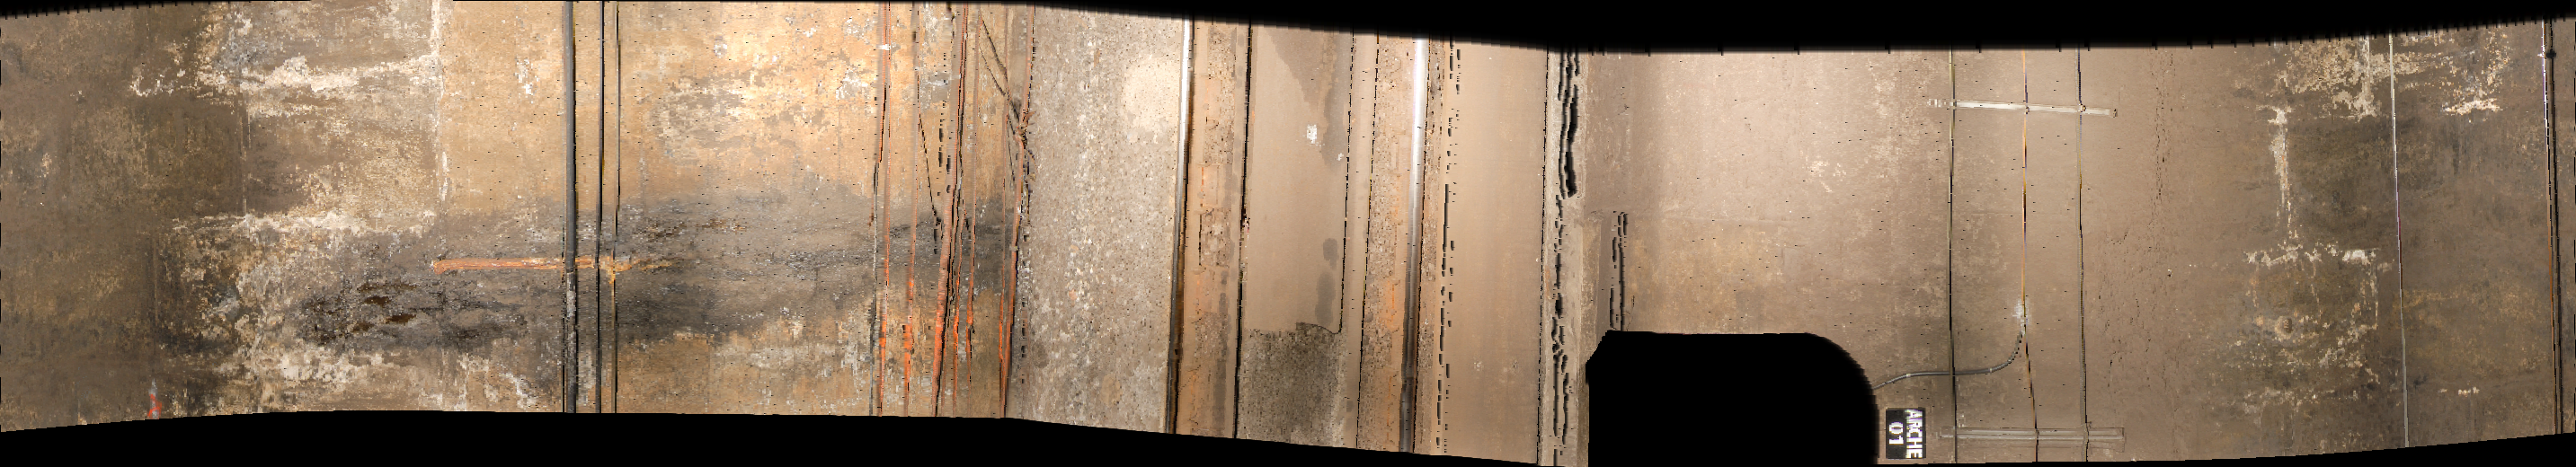pipes: (562, 3, 616, 424), (2541, 10, 2571, 465), (2017, 53, 2047, 467), (2390, 25, 2417, 467), (2073, 49, 2098, 467), (1942, 53, 1963, 467)
sign: (1884, 411, 1929, 459)
tracks: (1033, 16, 1551, 467)
